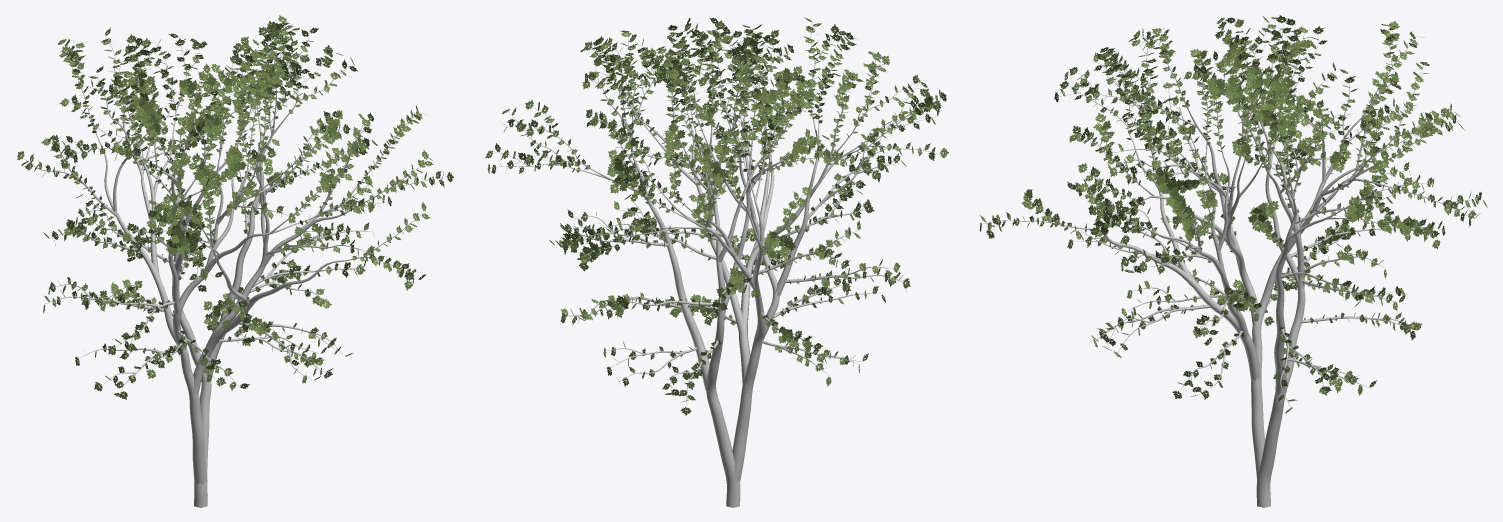
The model's file is Amazonie_Arbre_20.fbx.
3 renders of one model, left to right at view 1: azimuth 30°, elevation 25°; view 2: azimuth 150°, elevation 25°; view 3: azimuth 270°, elevation 25°, orthographic. The views are drawn at different scales.
Visible parts, largest first — view 1: Plane.001, tree; view 2: Plane.001, tree; view 3: Plane.001, tree.
Part boxes in pixels (<box>): Plane.001: <box>17,15,453,399</box>; tree: <box>25,24,444,507</box>; Plane.001: <box>485,17,948,415</box>; tree: <box>490,24,941,507</box>; Plane.001: <box>979,15,1487,413</box>; tree: <box>982,20,1481,507</box>.
Size of the model in its own units: 513 by 673 by 659.
